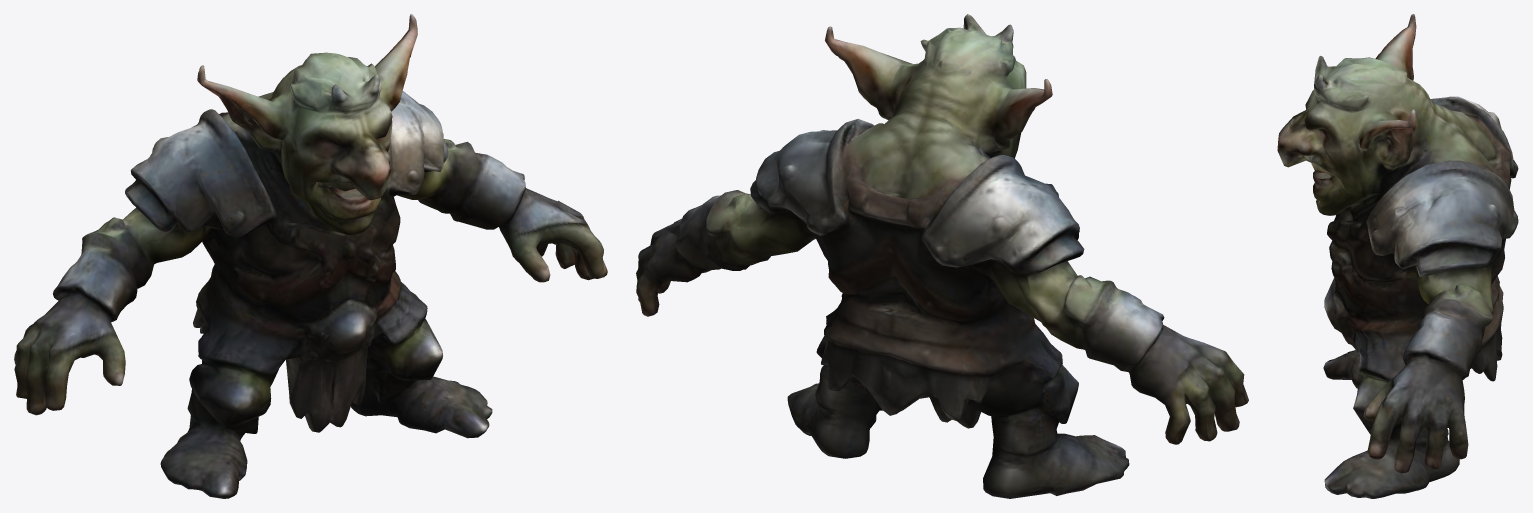
Rendered from g_cea6a31d.glb.
The picture shows the model from 3 angles, left to right: view 1: azimuth 30°, elevation 25°; view 2: azimuth 150°, elevation 25°; view 3: azimuth 270°, elevation 25°; orthographic projection. The views are drawn at different scales.
Visible parts, largest first — view 1: Mesh_0; view 2: Mesh_0; view 3: Mesh_0.
Part boxes in pixels (<box>): Mesh_0: <box>14,14,607,498</box>; Mesh_0: <box>636,14,1248,498</box>; Mesh_0: <box>1277,14,1518,498</box>.
Size of the model in its own units: 2.24 by 1.5 by 0.8734.
1 material, 1 textured.
